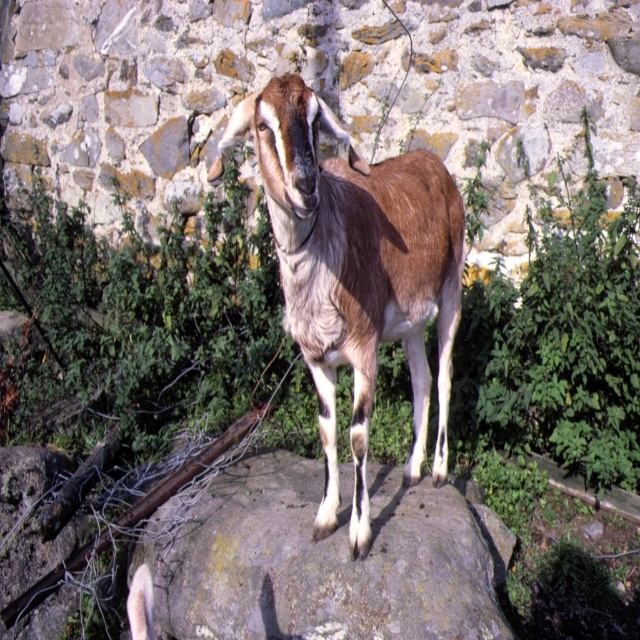Goat: (209, 75, 485, 589)
